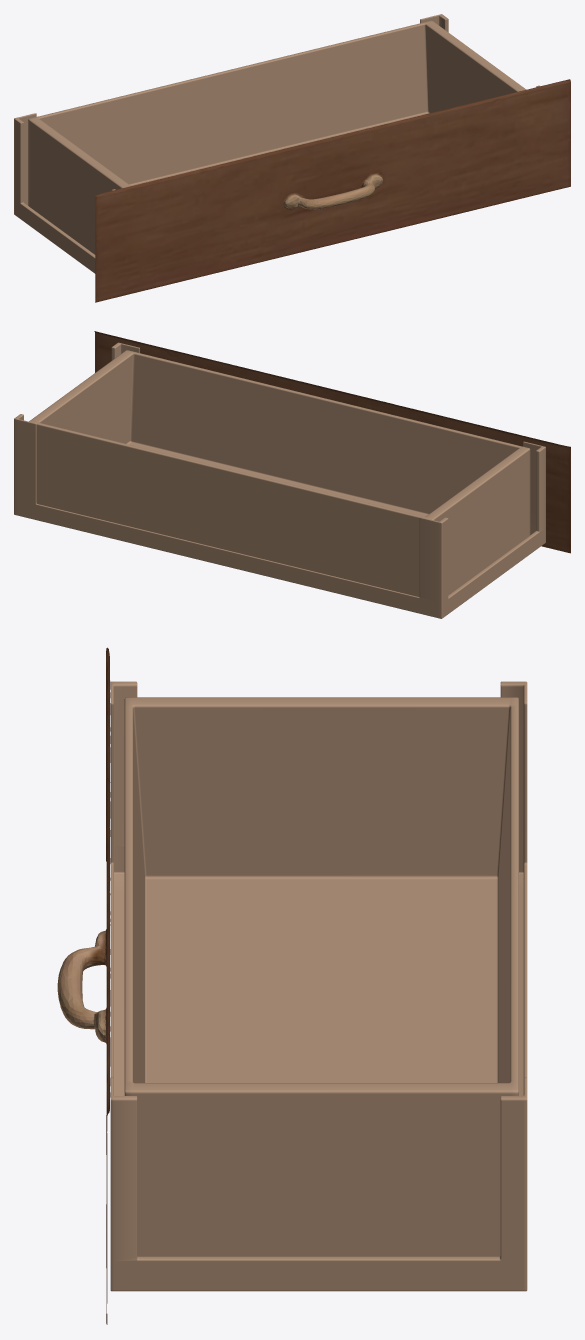
File: drawer_2.glb
3 renders of one model, top to bottom at view 1: azimuth 30°, elevation 25°; view 2: azimuth 150°, elevation 25°; view 3: azimuth 270°, elevation 25°, orthographic. The views are drawn at different scales.
Visible parts, largest first — view 1: source_front_cap_0, prefab_drawer_body_2; view 2: prefab_drawer_body_2, source_front_cap_0; view 3: prefab_drawer_body_2, source_front_cap_0.
Part boxes in pixels (x1,y1,x2,y2): source_front_cap_0: (95, 79, 570, 302); prefab_drawer_body_2: (14, 14, 540, 273); prefab_drawer_body_2: (14, 342, 545, 618); source_front_cap_0: (94, 331, 570, 553); prefab_drawer_body_2: (110, 681, 527, 1291); source_front_cap_0: (57, 647, 110, 1324).
Size of the model in its own units: 0.919 by 0.1974 by 0.393.
Materials: 2 (1 with a texture image).
